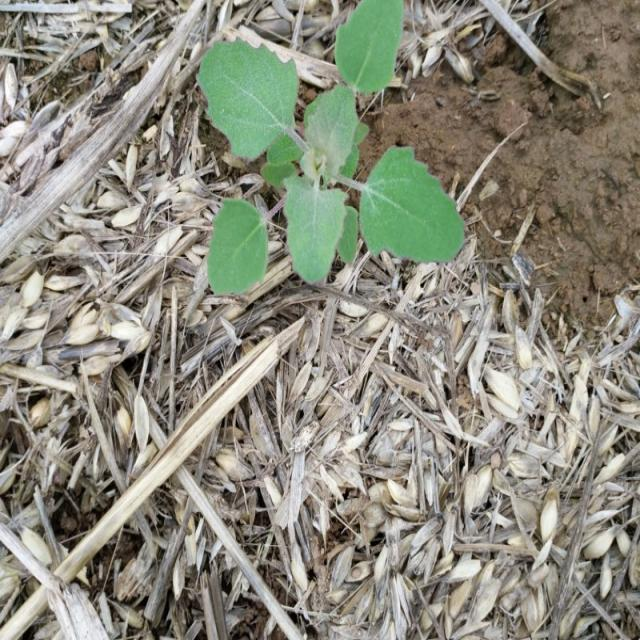goosefoots: (166, 26, 458, 288)
